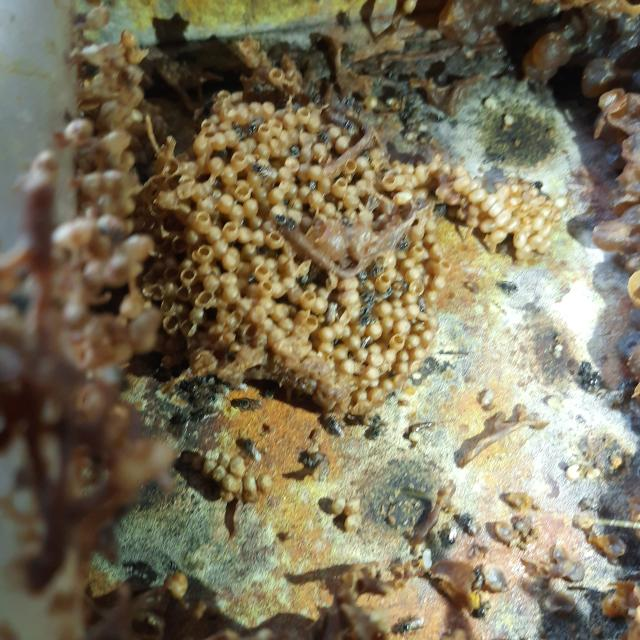honeybee: (239, 433, 270, 461), (397, 616, 433, 634), (233, 393, 261, 415), (461, 512, 486, 536), (194, 400, 220, 423), (172, 411, 190, 444), (324, 411, 346, 435), (254, 162, 279, 182), (580, 371, 602, 393), (613, 376, 633, 400), (245, 116, 265, 140), (471, 564, 487, 593), (478, 599, 499, 621), (366, 410, 383, 437), (298, 451, 324, 466), (576, 357, 592, 380), (499, 280, 521, 296), (447, 522, 460, 549), (231, 119, 247, 140), (354, 333, 371, 352), (253, 81, 274, 95), (308, 86, 322, 107), (364, 292, 379, 311), (480, 155, 505, 166), (342, 95, 359, 111), (272, 212, 289, 227), (342, 120, 357, 135), (382, 284, 396, 300), (316, 131, 330, 146), (360, 310, 373, 326), (396, 236, 409, 252), (356, 268, 368, 284), (366, 265, 381, 277), (308, 178, 319, 193), (290, 146, 301, 160), (286, 218, 296, 232), (340, 217, 352, 228), (533, 180, 544, 192), (362, 150, 371, 163), (418, 299, 428, 309)
